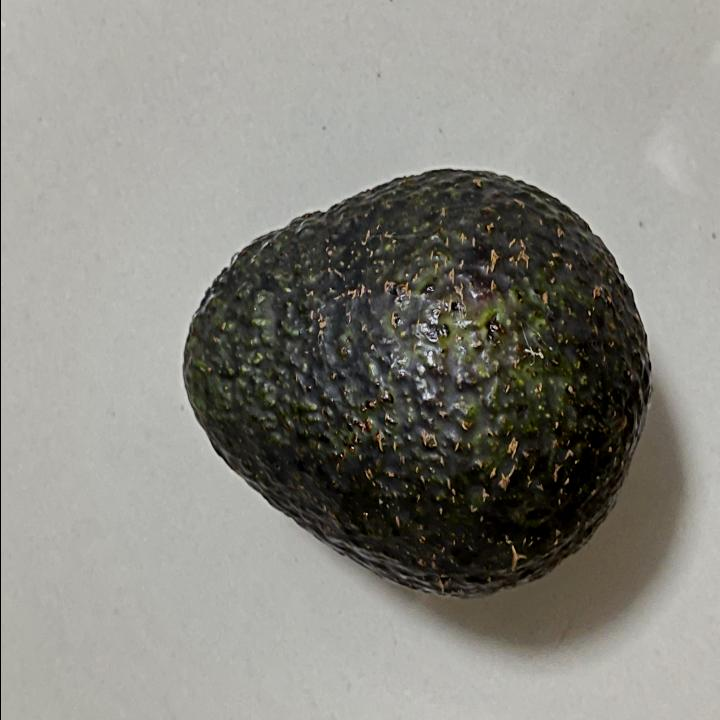Level1: (168, 148, 662, 606)
